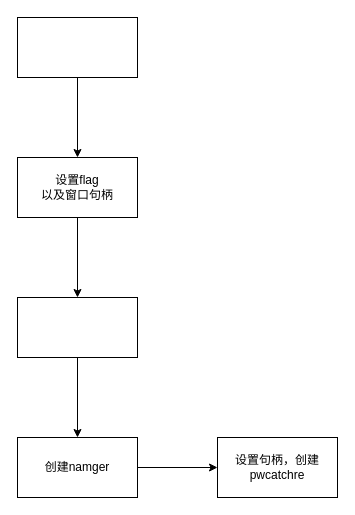
The diagram is 355 pixels wide and 515 high, and some of its shapes have lost their labels. Here are the shapes that lost their labels. From the top down, the centre of each, then its label:
At point 77,47: "ui选择".
At point 77,327: "点确认".
